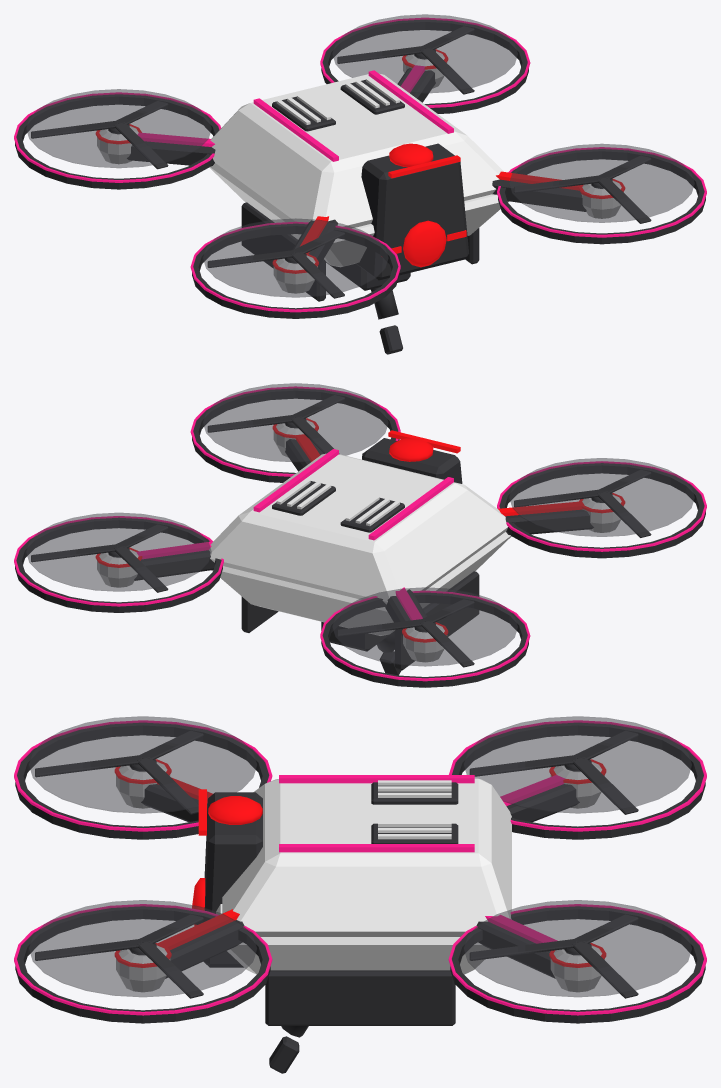
The model's file is drone_phone.glb.
3 views of the same model, one above another, from view 1: azimuth 30°, elevation 25°; view 2: azimuth 150°, elevation 25°; view 3: azimuth 270°, elevation 25° (orthographic). The views are drawn at different scales.
Visible parts, largest first — view 1: drone_body, rotor_FR_mesh, rotor_FL_mesh, rotor_RL_mesh, rotor_RR_mesh; view 2: drone_body, rotor_FL_mesh, rotor_RL_mesh, rotor_RR_mesh, rotor_FR_mesh; view 3: drone_body, rotor_RR_mesh, rotor_FR_mesh, rotor_RL_mesh, rotor_FL_mesh.
Part boxes in pixels (x1=…): drone_body: x1=14, y1=17, x2=706, y2=354; rotor_FR_mesh: x1=509, y1=143, x2=694, y2=223; rotor_FL_mesh: x1=203, y1=218, x2=388, y2=298; rotor_RL_mesh: x1=26, y1=89, x2=211, y2=169; rotor_RR_mesh: x1=332, y1=14, x2=517, y2=94; drone_body: x1=14, y1=386, x2=706, y2=687; rotor_FL_mesh: x1=509, y1=458, x2=694, y2=537; rotor_RL_mesh: x1=332, y1=587, x2=517, y2=667; rotor_RR_mesh: x1=26, y1=512, x2=211, y2=592; rotor_FR_mesh: x1=203, y1=383, x2=388, y2=462; drone_body: x1=14, y1=720, x2=706, y2=1073; rotor_RR_mesh: x1=463, y1=900, x2=691, y2=998; rotor_FR_mesh: x1=29, y1=900, x2=257, y2=998; rotor_RL_mesh: x1=464, y1=716, x2=691, y2=814; rotor_FL_mesh: x1=29, y1=716, x2=256, y2=814.
Size of the model in its own units: 2.55 by 1.09 by 2.55.
4 materials, 1 textured.
